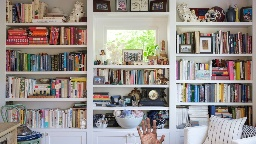Mano_aperta: (134, 117, 165, 143)
